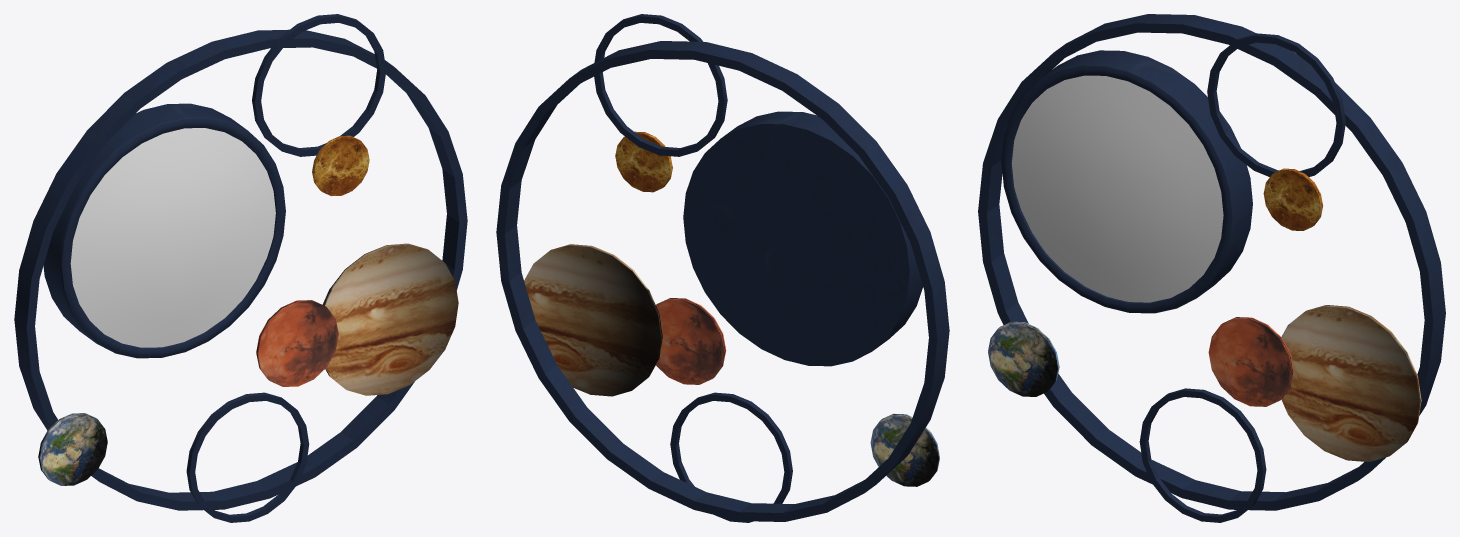
Rendered from Clock on wall.fbx.
3 renders of one model, left to right at view 1: azimuth 30°, elevation 25°; view 2: azimuth 150°, elevation 25°; view 3: azimuth 330°, elevation 25°, orthographic. The views are drawn at different scales.
Visible parts, largest first — view 1: pCylinder15; view 2: pCylinder15; view 3: pCylinder15.
Part boxes in pixels (box(x1,y1,x2,y2)): pCylinder15: box(14, 14, 467, 522); pCylinder15: box(496, 14, 949, 522); pCylinder15: box(978, 14, 1445, 522).
Bounding box in the file's own units: 15.86 × 16.71 × 1.43.
